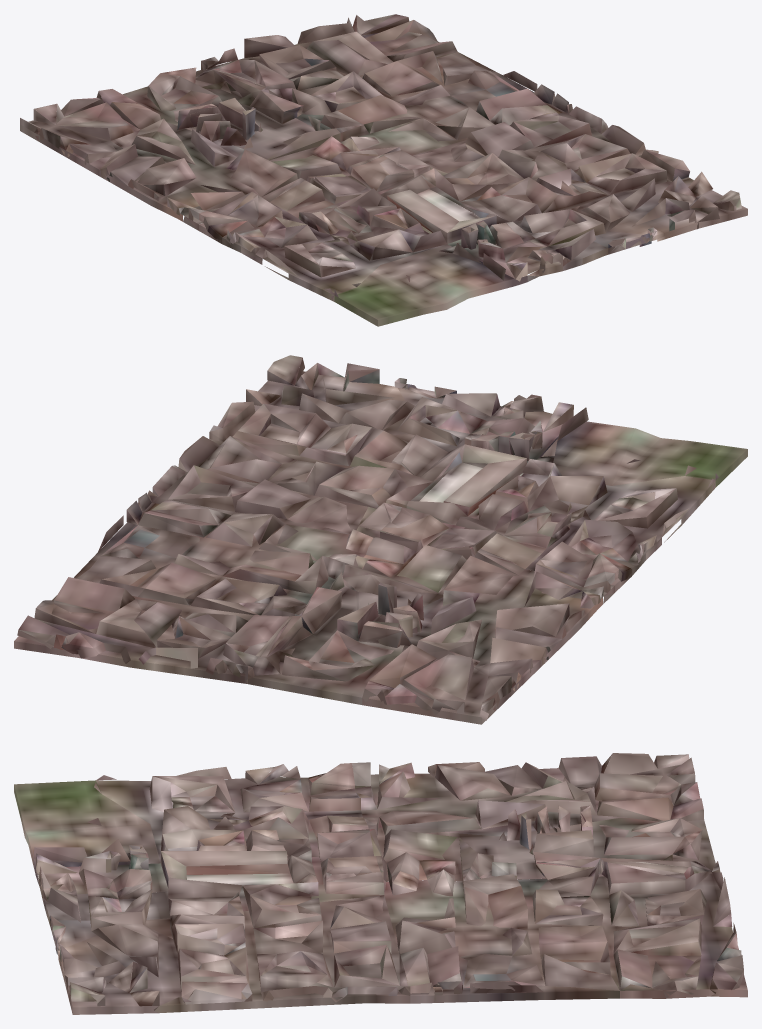
3 views of the same model, one above another, from view 1: azimuth 30°, elevation 25°; view 2: azimuth 150°, elevation 25°; view 3: azimuth 270°, elevation 25° (orthographic). The views are drawn at different scales.
Parts seen in each view (by area): view 1: Mesh_0; view 2: Mesh_0; view 3: Mesh_0.
Part boxes in pixels (x1,y1,x2,y2): Mesh_0: (20,14,747,326); Mesh_0: (14,355,747,724); Mesh_0: (14,753,747,1014).
Size of the model in its own units: 1079 by 114 by 1318.
2 materials, 2 textured.
